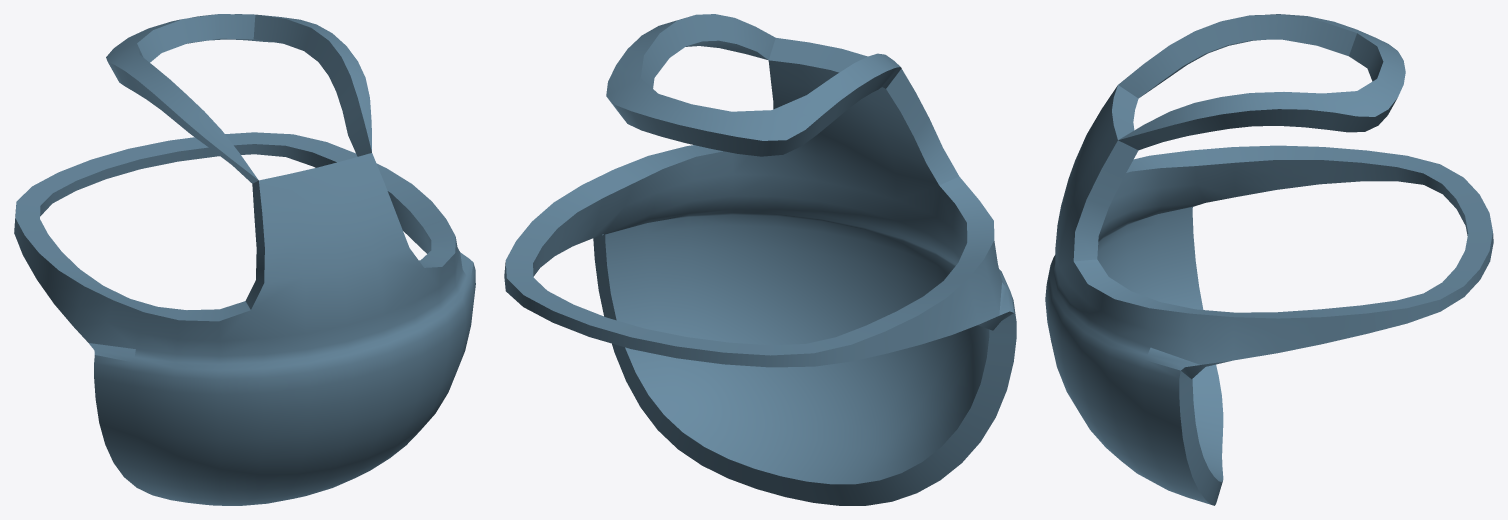
3 renders of one model, left to right at view 1: azimuth 30°, elevation 25°; view 2: azimuth 150°, elevation 25°; view 3: azimuth 270°, elevation 25°, orthographic. The views are drawn at different scales.
Visible parts, largest first — view 1: apron; view 2: apron; view 3: apron.
Part boxes in pixels (x1,y1,x2,y2): apron: (14, 14, 475, 505); apron: (504, 14, 1016, 505); apron: (1045, 14, 1493, 505).
Bounding box in the file's own units: 1.43 × 1.52 × 1.45.
